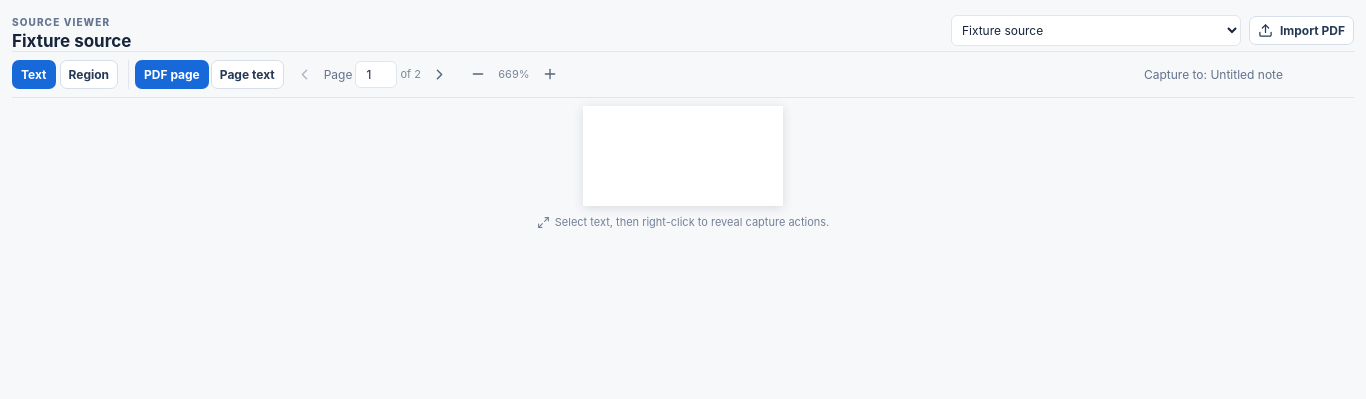
Test: source navigation consumption › applies provenance once and then permits manual source switching after import
The image size is (1366, 399).
Click the button "Page text" at coordinates (247, 74), box x1=211 y1=60 x2=284 y2=88
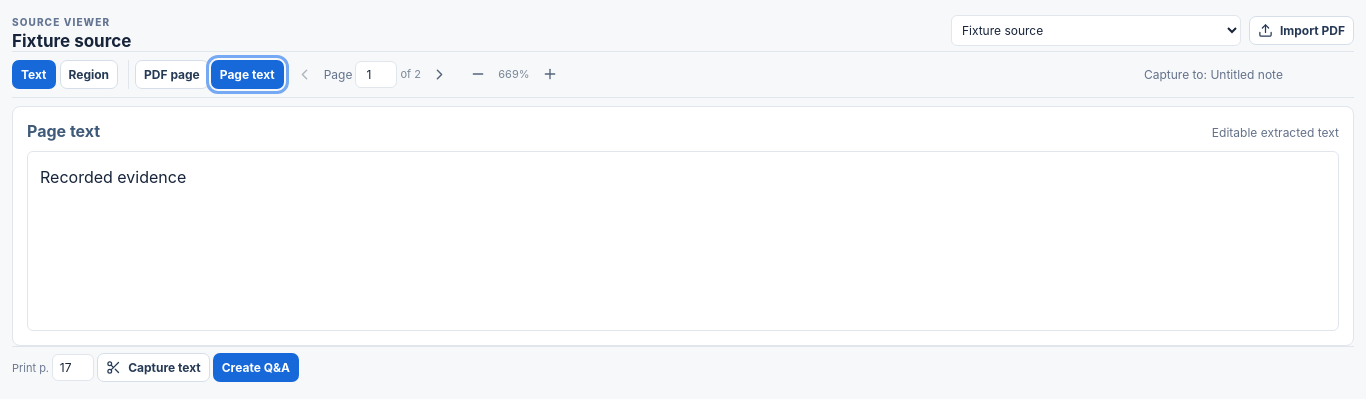
Expected: the number field named "Printed page" holds "17", x1=52 y1=354 x2=94 y2=381
Expected: the text box named "Selected PDF text" holds "Recorded evidence", x1=27 y1=151 x2=1339 y2=331
Click the button "Import PDF" at coordinates (1301, 30), box x1=1249 y1=16 x2=1354 y2=45
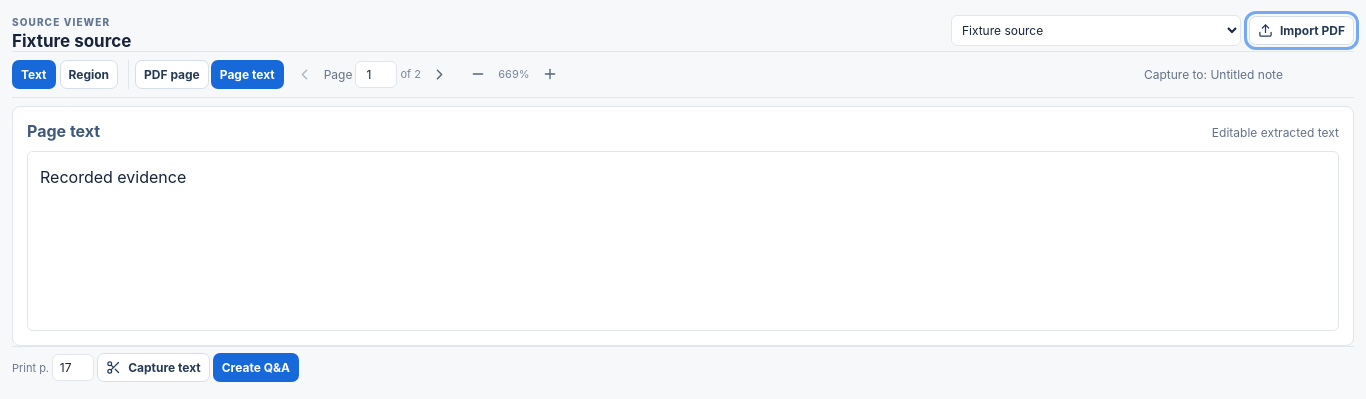
Select "Comparison" in the dropdown named "Source document" at coordinates (1096, 30), box x1=951 y1=15 x2=1241 y2=46
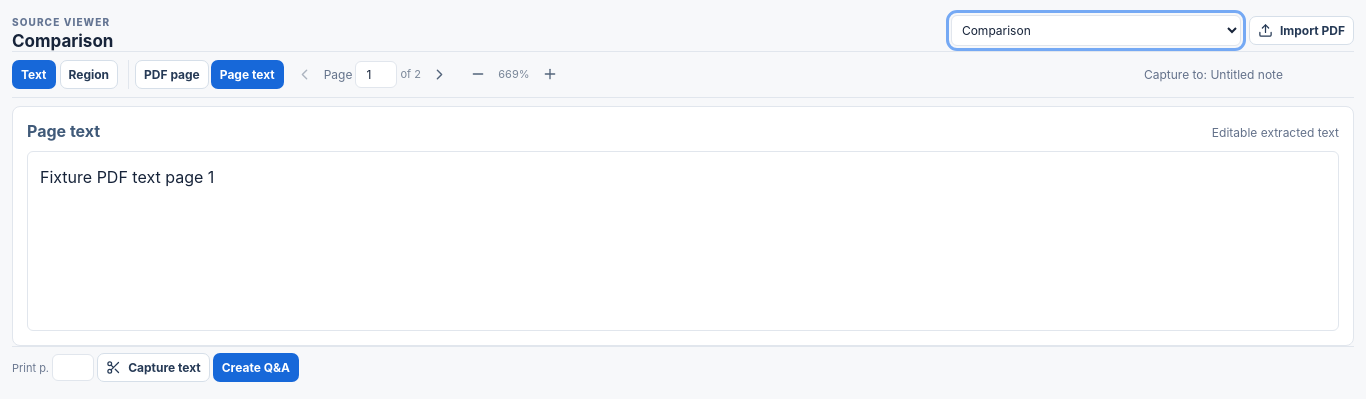
Expected: the number field named "Printed page" is not empty, x1=52 y1=354 x2=94 y2=381
